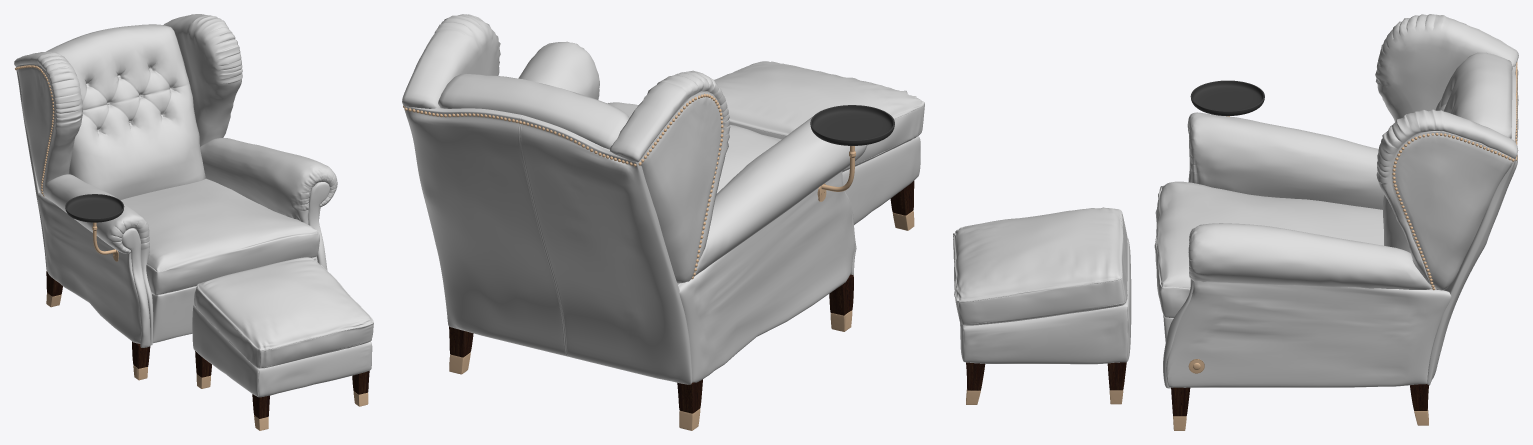
File: SLN_CORNELL.glb
The picture shows the model from 3 angles, left to right: view 1: azimuth 30°, elevation 25°; view 2: azimuth 150°, elevation 25°; view 3: azimuth 270°, elevation 25°; orthographic projection. The views are drawn at different scales.
Visible parts, largest first — view 1: CORNELL, CORNELL.001; view 2: CORNELL, CORNELL.001; view 3: CORNELL, CORNELL.001.
Boxes of the visible parts, bbox=[...] form: CORNELL: bbox=[14, 14, 373, 430]; CORNELL.001: bbox=[15, 65, 124, 261]; CORNELL: bbox=[402, 14, 924, 430]; CORNELL.001: bbox=[403, 93, 894, 279]; CORNELL: bbox=[953, 14, 1518, 430]; CORNELL.001: bbox=[1188, 62, 1517, 373].
Bounding box in the file's own units: 0.9656 × 0.8885 × 1.47.
5 materials, 1 textured.
